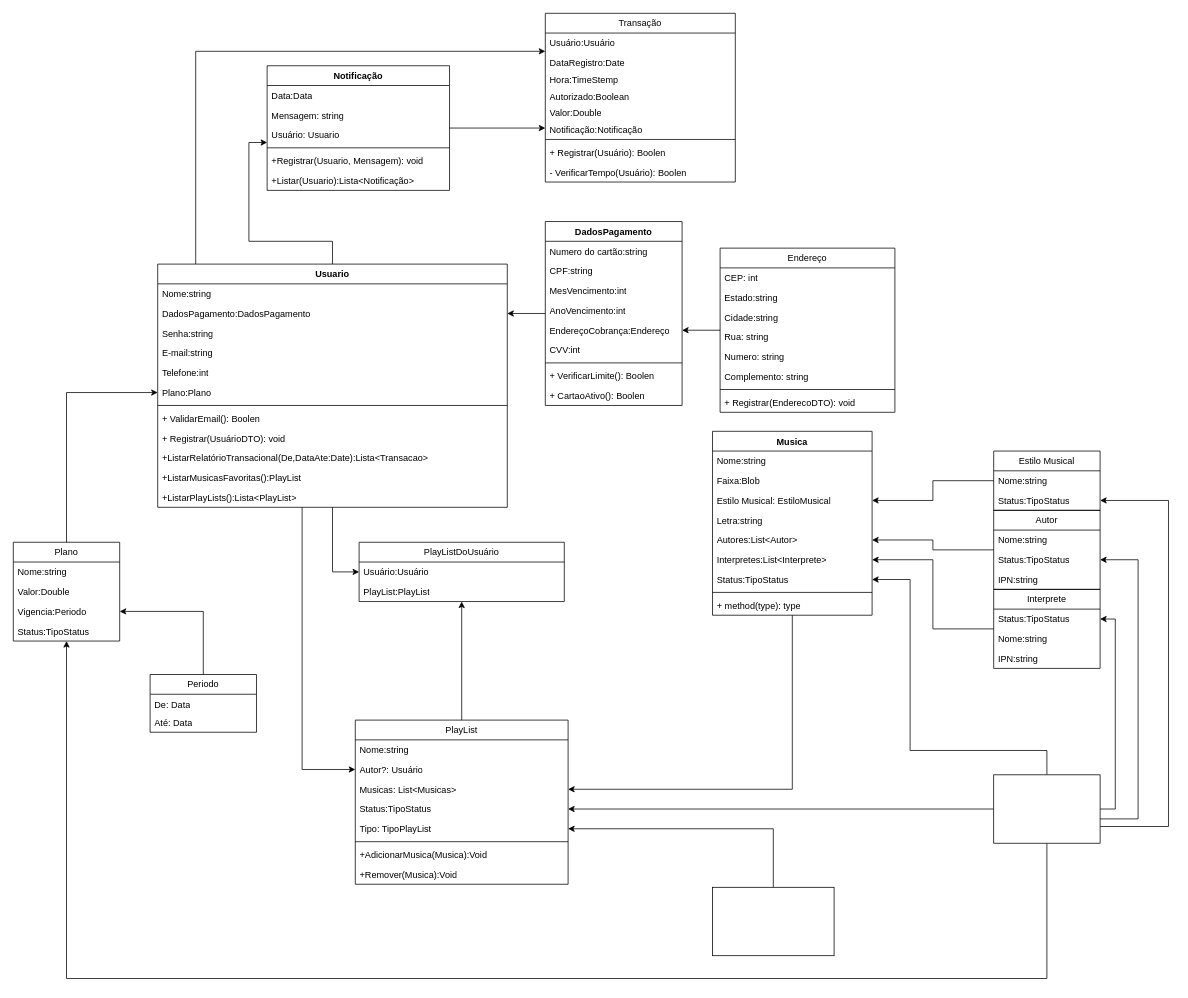
Some shapes in this 1188 by 998 pixel diagram are drawn without their labels. The shapes that lost their labels are listed below. From the top down, each one's centre as x and y in pixels, then its label:
point (1046, 808): TipoStatus Ativo = 0 Inativo = 1
point (773, 921): TipoPlayList Favorita = 0 Padrão = 1 Autoral = 2
